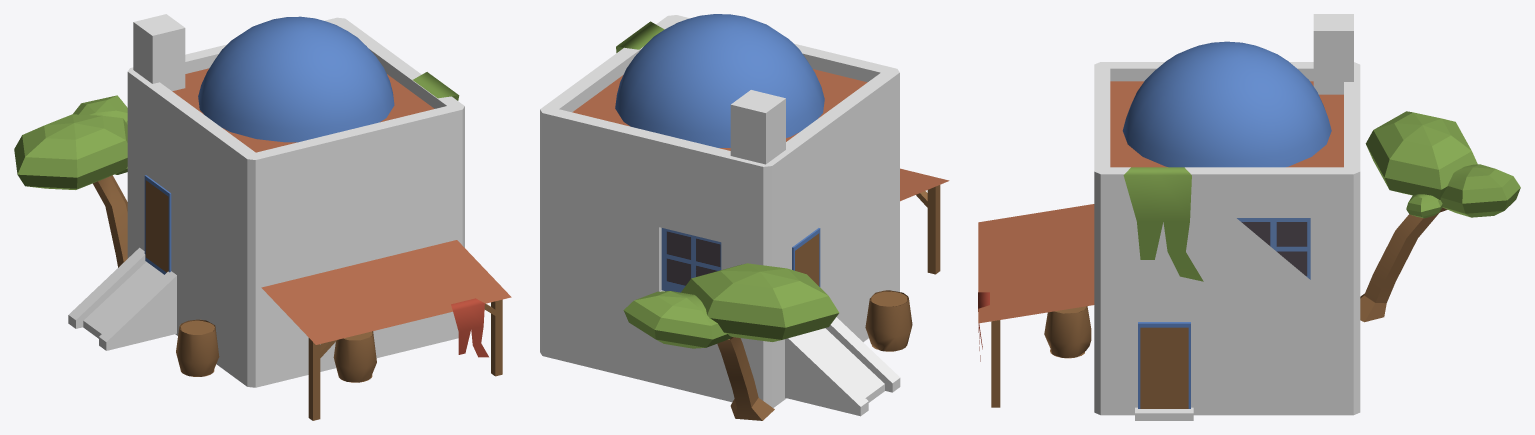
File: House_Destroyed.fbx
3 views of the same model, side by side, from view 1: azimuth 30°, elevation 25°; view 2: azimuth 150°, elevation 25°; view 3: azimuth 270°, elevation 25° (orthographic). The views are drawn at different scales.
Visible parts, largest first — view 1: polySurface9, polySurface5, pSphere1, pPlane1, leaves, pCube10, polySurface7, chimney, pCube12, nurbsToPoly2, nurbsToPoly5, trunk (+4 smaller); view 2: polySurface5, polySurface9, pSphere1, leaves, pCube10, chimney, polySurface4, trunk, nurbsToPoly2, pCube2, pCube12, pPlane1 (+2 smaller); view 3: polySurface9, polySurface5, pSphere1, pPlane1, leaves, polySurface7, plants, pCube4, chimney, trunk, polySurface2, nurbsToPoly5 (+2 smaller).
Boxes of the visible parts, x1,y1,x2,y2 form: polySurface9: (127, 157, 464, 353); polySurface5: (127, 17, 464, 203); pSphere1: (198, 16, 394, 142); pPlane1: (261, 240, 511, 344); leaves: (14, 95, 127, 189); pCube10: (68, 247, 176, 350); polySurface7: (216, 238, 464, 387); chimney: (133, 14, 185, 91); pCube12: (144, 175, 171, 274); nurbsToPoly2: (176, 319, 219, 376); nurbsToPoly5: (333, 331, 376, 382); trunk: (93, 175, 127, 267); polySurface5: (540, 15, 899, 269); polySurface9: (540, 120, 899, 407); pSphere1: (615, 14, 824, 147); leaves: (623, 263, 839, 348); pCube10: (785, 317, 900, 416); chimney: (730, 90, 785, 164); polySurface4: (661, 228, 721, 292); trunk: (717, 337, 774, 420); nurbsToPoly2: (865, 290, 912, 351); pCube2: (916, 185, 940, 274); pCube12: (792, 228, 820, 286); pPlane1: (900, 168, 949, 201); polySurface9: (1094, 223, 1360, 415); polySurface5: (1094, 62, 1360, 291); pSphere1: (1122, 41, 1331, 167); pPlane1: (978, 204, 1094, 323); leaves: (1365, 111, 1520, 218); polySurface7: (1094, 309, 1276, 415); plants: (1123, 167, 1203, 281); pCube4: (1138, 322, 1190, 408); chimney: (1313, 14, 1353, 94); trunk: (1360, 207, 1447, 322); polySurface2: (1237, 218, 1310, 279); nurbsToPoly5: (1044, 306, 1091, 358).
Bounding box in the file's own units: 7.25 × 6.46 × 10.21.
